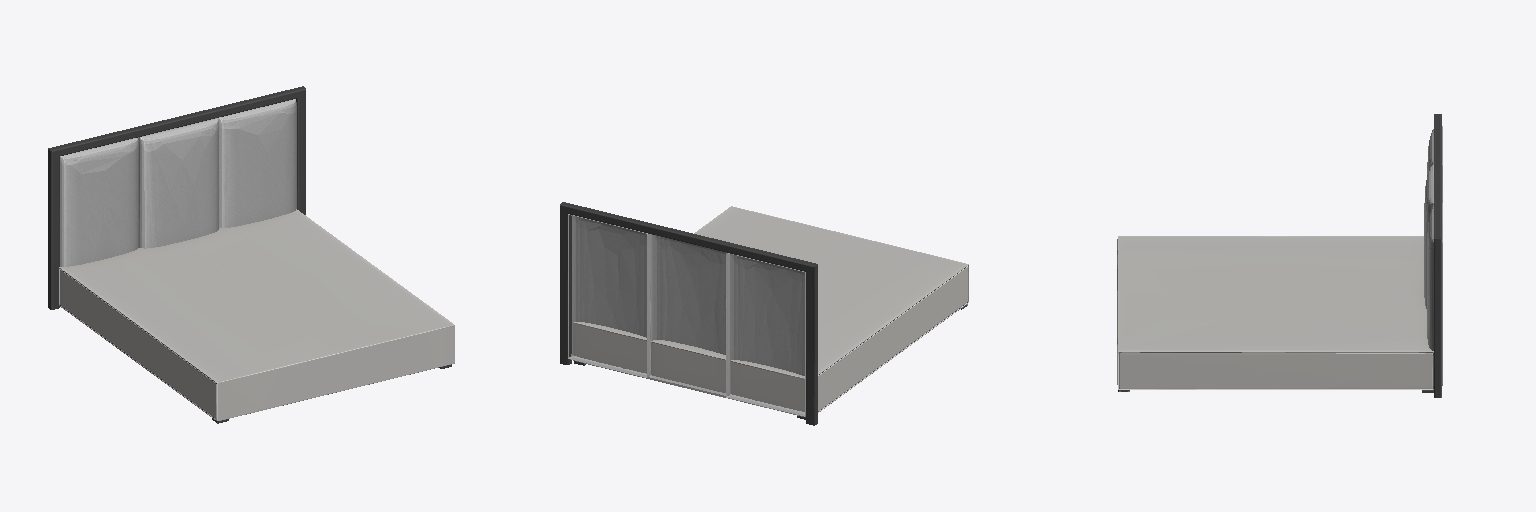
The picture shows the model from 3 angles: view 1: azimuth 30°, elevation 25°; view 2: azimuth 150°, elevation 25°; view 3: azimuth 270°, elevation 25°; orthographic projection.
Visible parts, largest first — view 1: solid_002, solid_003, solid_004; view 2: solid_002, solid_003, solid_004; view 3: solid_002, solid_004, solid_003.
Boxes of the visible parts, box(x1,y1,x2,y2) form: solid_002: box(59, 209, 454, 420); solid_003: box(60, 99, 296, 266); solid_004: box(48, 86, 305, 309); solid_002: box(573, 206, 968, 416); solid_003: box(568, 214, 805, 416); solid_004: box(560, 202, 817, 425); solid_002: box(1117, 236, 1433, 389); solid_004: box(1434, 114, 1441, 397); solid_003: box(1424, 126, 1442, 385).
Size of the model in its own units: 1.74 by 1.04 by 1.92.
1 materials, 1 textured.